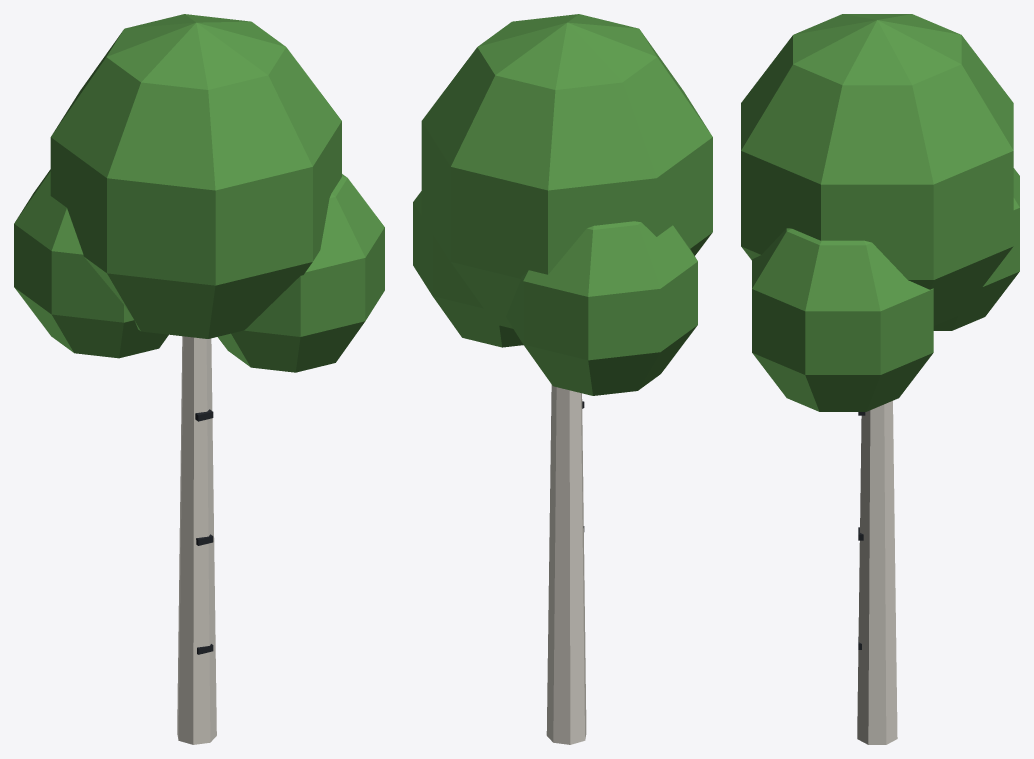
The model's file is tree_birch.glb.
3 renders of one model, left to right at view 1: azimuth 30°, elevation 25°; view 2: azimuth 150°, elevation 25°; view 3: azimuth 270°, elevation 25°, orthographic.
Visible parts, largest first — view 1: tree_birch; view 2: tree_birch; view 3: tree_birch.
Boxes of the visible parts, <box> form: tree_birch: <box>14,14,384,744</box>; tree_birch: <box>413,14,712,744</box>; tree_birch: <box>741,14,1019,744</box>.
Size of the model in its own units: 1.95 by 4.59 by 1.62.
